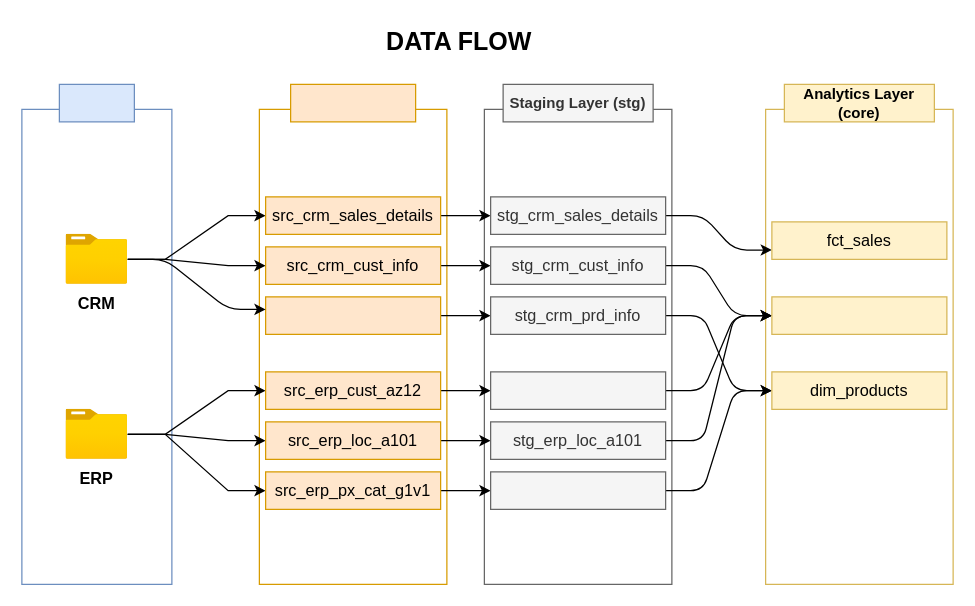
Some shapes in this 975 by 606 pixel diagram are drawn without their labels. The centre of each missing label's shape, as x and y in pixels:
dim_customers: point (859, 315)
Raw Layer (src): point (352, 102)
Sources: point (96, 102)
src_crm_prd_info: point (352, 315)
stg_erp_cust_az12: point (577, 390)
stg_erp_px_cat_g1v1: point (577, 490)
